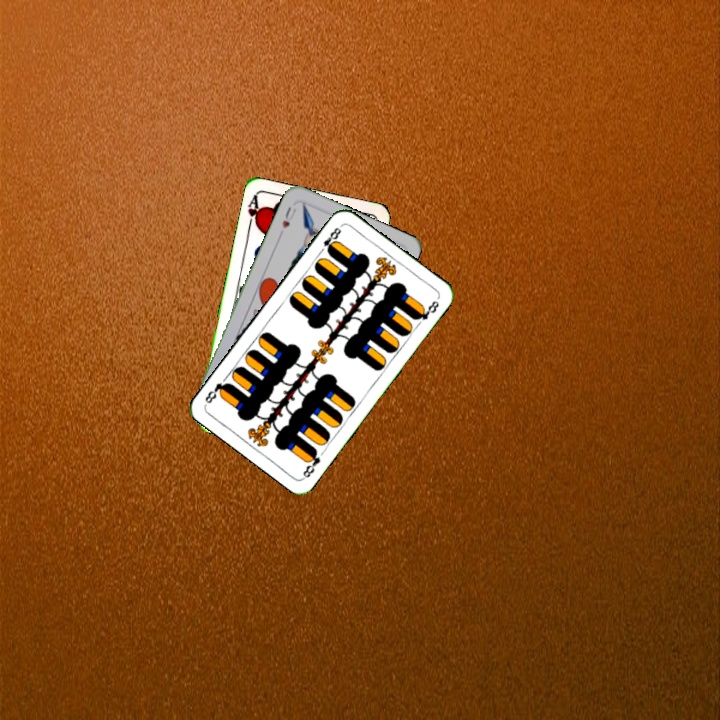E8: (315, 223, 344, 257), (299, 445, 323, 481)
HA: (244, 192, 264, 232)
HU: (278, 203, 299, 231)
